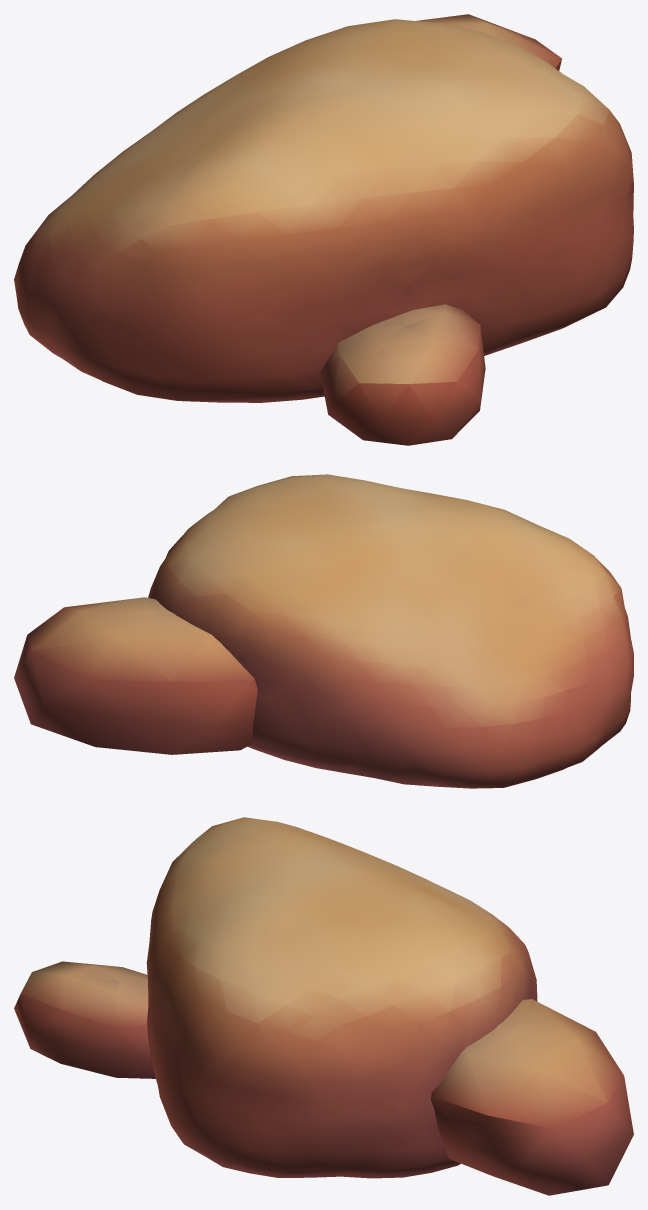
File: amber_rock_river_a.glb
3 views of the same model, one above another, from view 1: azimuth 30°, elevation 25°; view 2: azimuth 150°, elevation 25°; view 3: azimuth 270°, elevation 25° (orthographic). The views are drawn at different scales.
Parts seen in each view (by area): view 1: amber_rock_river_a; view 2: amber_rock_river_a; view 3: amber_rock_river_a.
Boxes of the visible parts, x1,y1,x2,y2 form: amber_rock_river_a: [14, 14, 633, 445]; amber_rock_river_a: [14, 474, 633, 788]; amber_rock_river_a: [14, 817, 633, 1195].
Size of the model in its own units: 1.79 by 0.6726 by 1.76.
